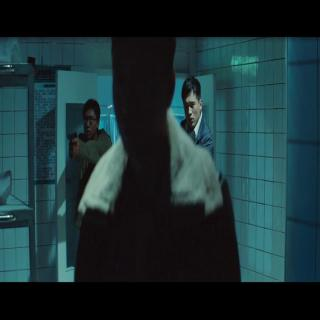gun: (65, 130, 79, 154)
